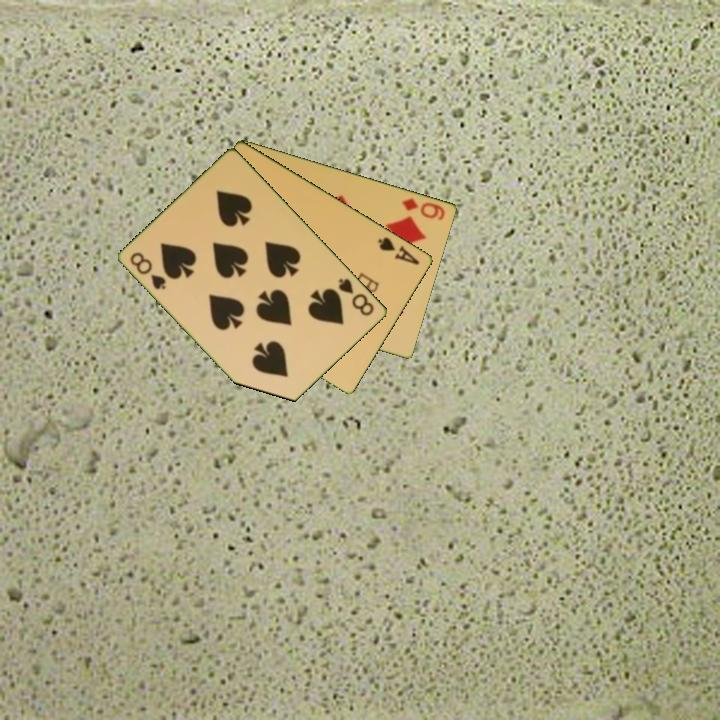6d: (398, 194, 448, 223)
8s: (127, 248, 170, 293), (335, 275, 377, 319)
As: (375, 233, 423, 268)
